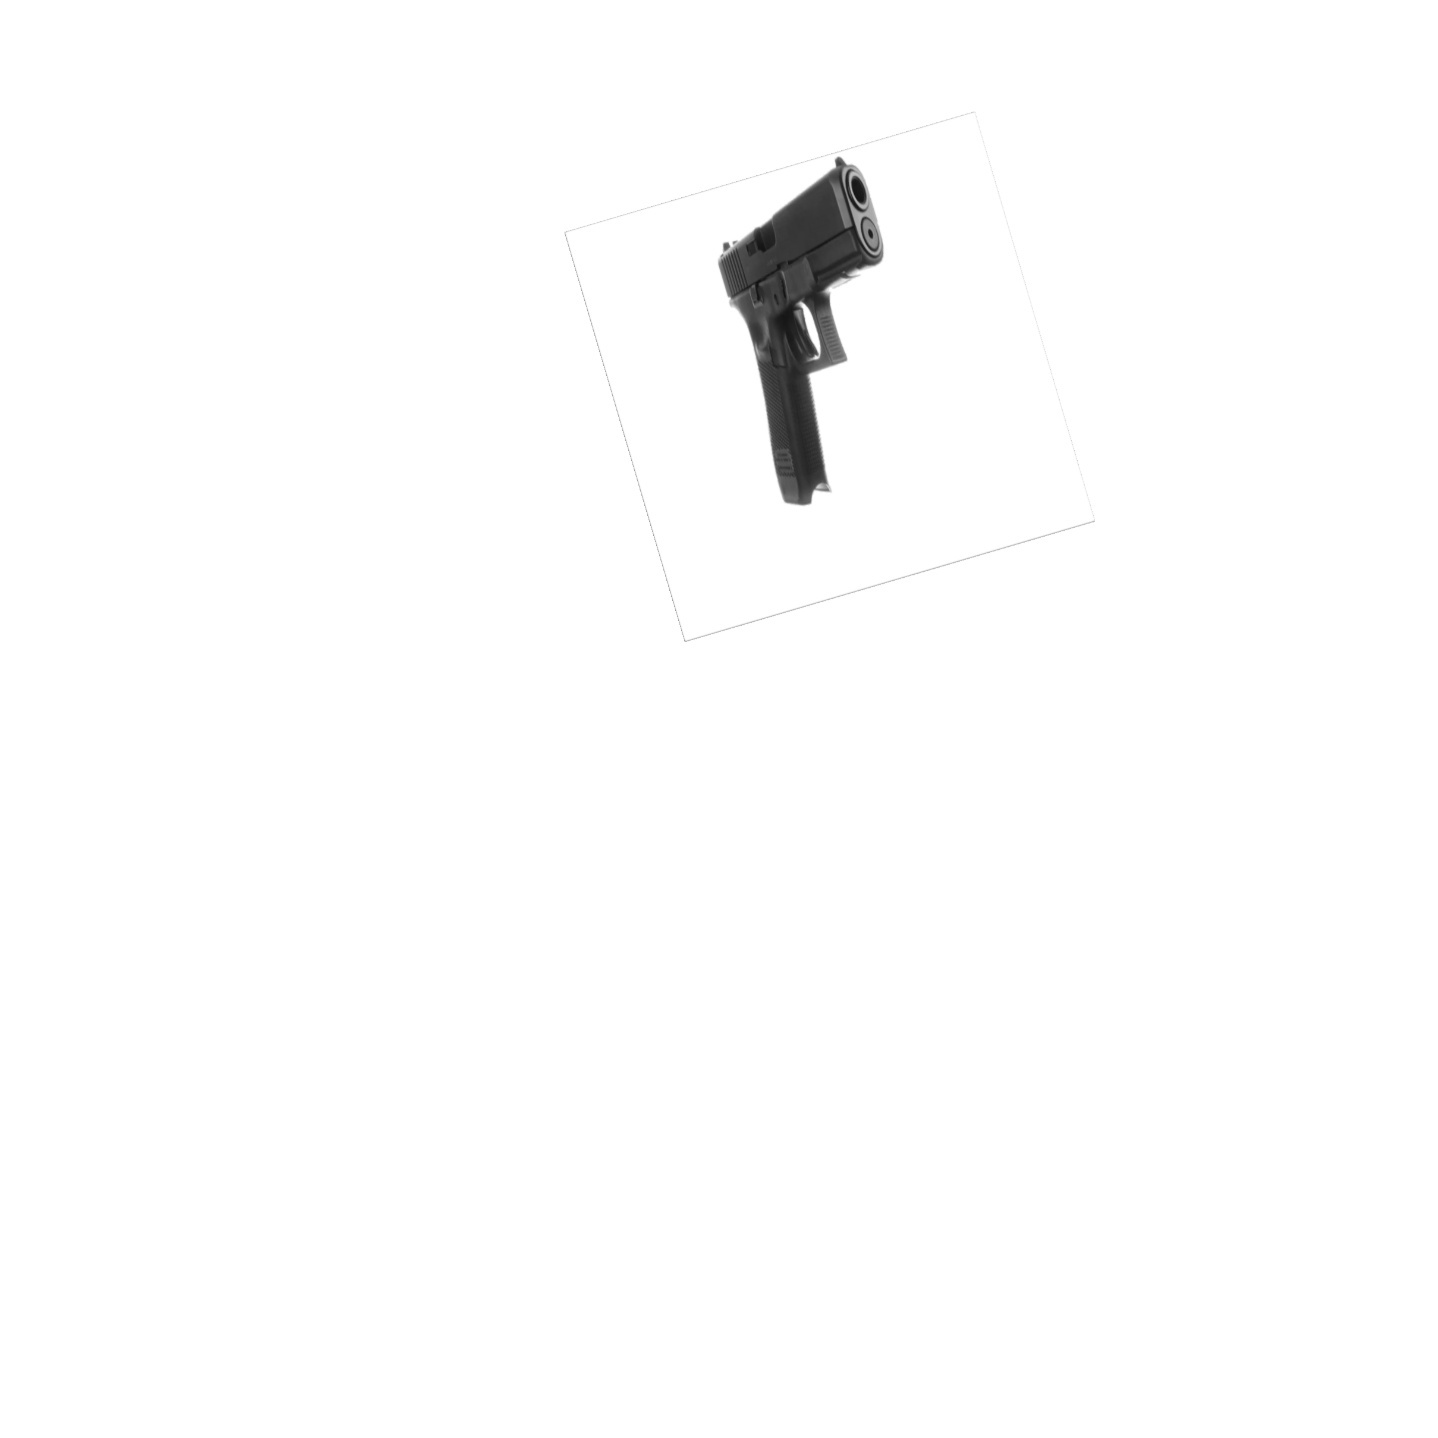gun: (705, 147, 884, 514)
